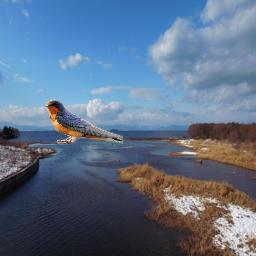Swallow: (43, 98, 123, 146)
